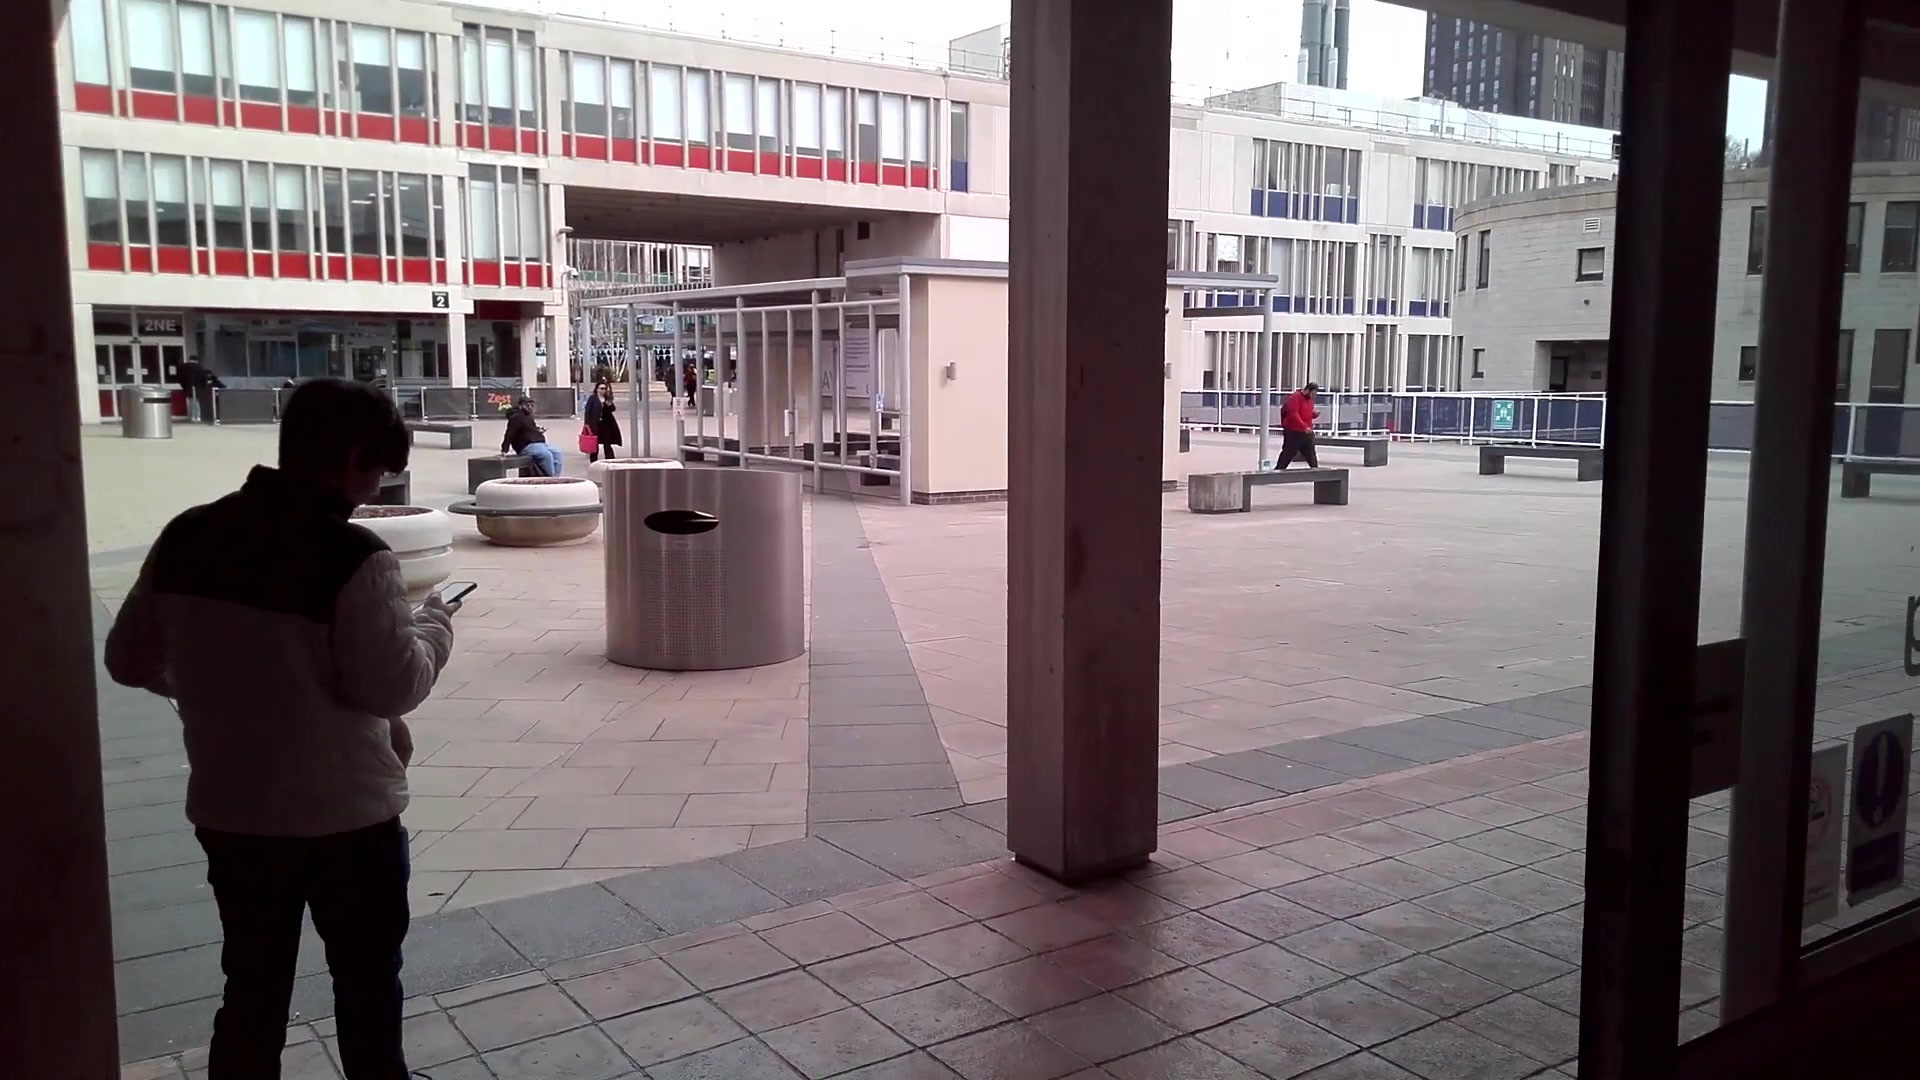Bench: (1186, 467, 1356, 522), (1476, 435, 1602, 493), (464, 451, 560, 483)
Bin: (602, 459, 825, 669)
Person: (162, 382, 449, 1067), (1280, 374, 1333, 479), (576, 377, 633, 474), (504, 395, 561, 485)
